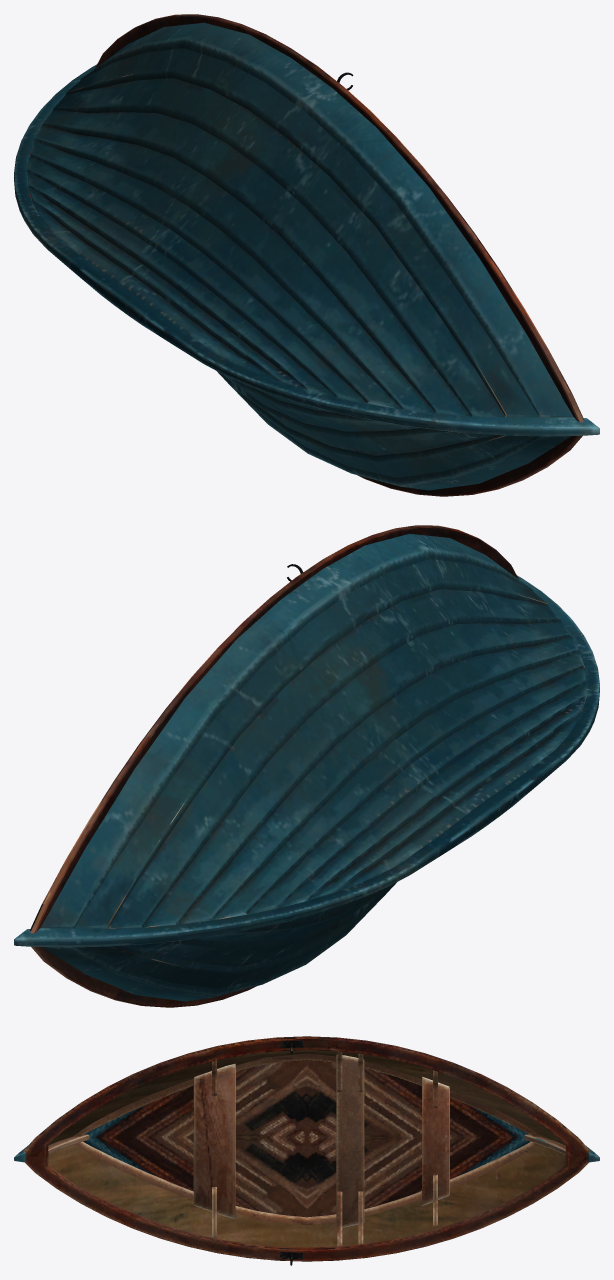
File: cP_Boat02.dae
3 views of the same model, one above another, from view 1: azimuth 30°, elevation 25°; view 2: azimuth 150°, elevation 25°; view 3: azimuth 270°, elevation 25° (orthographic). The views are drawn at different scales.
Visible parts, largest first — view 1: cP_Boat02.001; view 2: cP_Boat02.001; view 3: cP_Boat02.001.
Boxes of the visible parts, x1,y1,x2,y2 form: cP_Boat02.001: [14, 14, 599, 496]; cP_Boat02.001: [14, 525, 599, 1007]; cP_Boat02.001: [14, 1036, 599, 1265].
Size of the model in its own units: 1.68 by 6.34 by 2.68.
